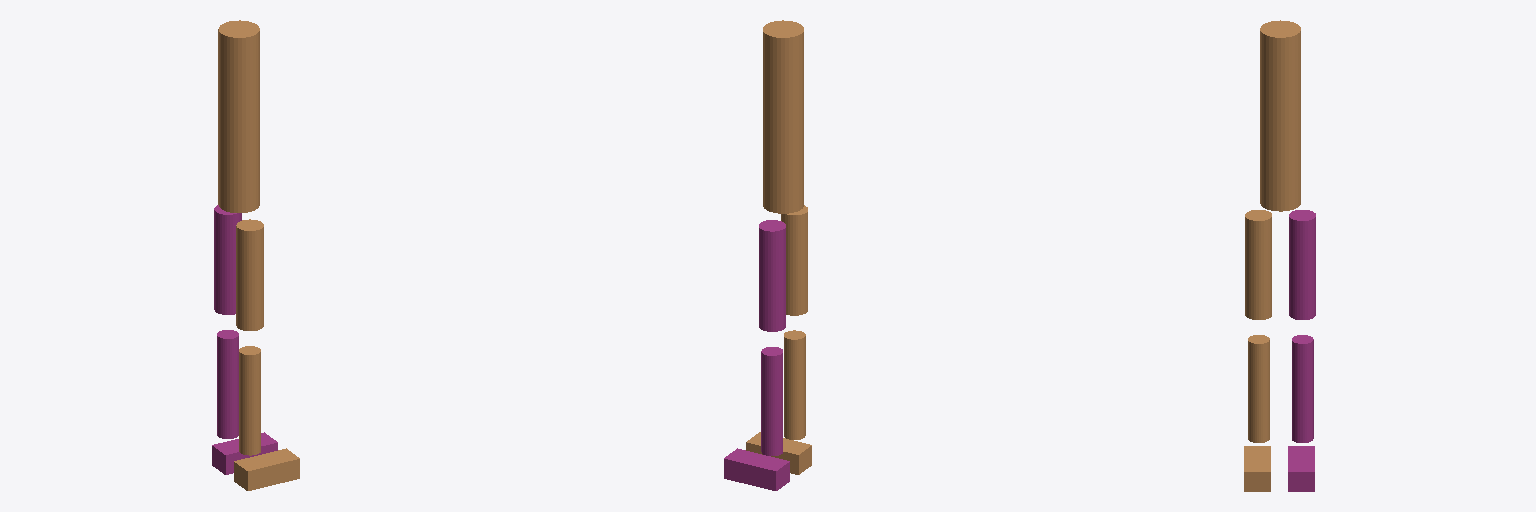
The robot description file, URDF, robot "walker3d_hip3d":
<?xml version="1.0" encoding="utf-8"?>
<!-- Created by [author] (https://github.com/lupinjia, [email redacted])-->
<robot name="walker3d_hip3d">
  <material name="yellow">
      <color rgba="0.8 0.6 0.4 1.0"/>
  </material>
  <material name="purple">
    <color rgba="0.7 0.3 0.6 1"/>
  </material>
  <link name="torso">
    <inertial>
      <origin
        xyz="0 0 0.35"
        rpy="0 0 0" />
      <mass
        value="53.5" />
      <inertia
        ixx="2.5"
        ixy="0.0"
        ixz="0.0"
        iyy="4.0"
        iyz="0.0"
        izz="1.5" />
    </inertial>
    <visual>
      <origin
        xyz="0 0 0.35"
        rpy="0 0 0" />
      <geometry>
        <cylinder radius="0.075" length="0.7"/>
      </geometry>
      <material name="yellow">
      </material>
    </visual>
    <collision>
      <origin
        xyz="0 0 0.35"
        rpy="0 0 0" />
      <geometry>
        <cylinder radius="0.075" length="0.7"/>
      </geometry>
    </collision>
  </link>
  <link name="right_hip_dummy1">
  </link>
  <joint 
    name="hip_joint_saggital_right"
    type="revolute">
    <parent link="torso"/>
    <child link="right_hip_dummy1"/>
    <origin
      xyz="0 -0.08 0"
      rpy="0 0 0" />
    <axis
      xyz="0 1 0" />
    <limit
      lower="-0.7854"
      upper="0.7854"
      effort="300"
      velocity="10" />
  </joint>
  <link name="right_hip_dummy2">
  </link>
  <joint 
    name="hip_joint_frontal_right"
    type="revolute">
    <parent link="right_hip_dummy1"/>
    <child link="right_hip_dummy2"/>
    <origin
      xyz="0 0 0"
      rpy="0 0 0" />
    <axis
      xyz="1 0 0" />
    <limit
      lower="-0.8727"
      upper="0.8727"
      effort="300"
      velocity="10" />
  </joint>
  <link name="right_thigh">
    <inertial>
      <origin
        xyz="0 0 -0.2"
        rpy="0 0 0" />
      <mass
        value="8.5" />
      <inertia
        ixx="0.15"
        ixy="0.0"
        ixz="0.0"
        iyy="0.15"
        iyz="0.0"
        izz="0.03" />
    </inertial>
    <visual>
      <origin
        xyz="0 0 -0.25"
        rpy="0 0 0" />
      <geometry>
        <cylinder radius="0.05" length="0.4"/>
      </geometry>
      <material name="yellow">
      </material>
    </visual>
    <collision>
      <origin
        xyz="0 0 -0.25"
        rpy="0 0 0" />
      <geometry>
        <cylinder radius="0.05" length="0.4"/>
      </geometry>
    </collision>
  </link>
  <joint 
    name="hip_joint_transversal_right"
    type="revolute">
    <parent link="right_hip_dummy2"/>
    <child link="right_thigh"/>
    <origin
      xyz="0 0 0"
      rpy="0 0 0" />
    <axis
      xyz="0 0 1" />
    <limit
      lower="-0.26"
      upper="0.26"
      effort="300"
      velocity="10" />
  </joint>
  <link name="right_shank">
    <inertial>
      <origin
        xyz="0 0 -0.2"
        rpy="0 0 0" />
      <mass
        value="3.5" />
      <inertia
        ixx="0.05"
        ixy="0.0"
        ixz="0.0"
        iyy="0.05"
        iyz="0.0"
        izz="0.003" />
    </inertial>
    <visual>
      <origin
        xyz="0 0 -0.25"
        rpy="0 0 0" />
      <geometry>
        <cylinder radius="0.04" length="0.4"/>
      </geometry>
      <material name="yellow">
      </material>
    </visual>
    <collision>
      <origin
        xyz="0 0 -0.25"
        rpy="0 0 0" />
      <geometry>
        <cylinder radius="0.04" length="0.4"/>
      </geometry>
    </collision>
  </link>
  <joint 
    name="knee_joint_right"
    type="revolute">
    <parent link="right_thigh"/>
    <child link="right_shank"/>
    <origin
      xyz="0 0 -0.5"
      rpy="0 0 0" />
    <axis
      xyz="0 1 0" />
    <limit
      lower="0"
      upper="2.6180"
      effort="300"
      velocity="10" />
  </joint>
  <link name="right_foot">
    <inertial>
      <origin
        xyz="0.06 0 -0.07"
        rpy="0 0 0" />
      <mass
        value="1.5" />
      <inertia
        ixx="0.003"
        ixy="0.0"
        ixz="0.0"
        iyy="0.006"
        iyz="0.0"
        izz="0.005" />
    </inertial>
    <visual>
      <origin
        xyz="0.0675 -0.005 -0.04"
        rpy="0 0 0" />
      <geometry>
        <box size="0.22 0.1 0.08"/>
      </geometry>
      <material name="yellow">
      </material>
    </visual>
    <collision>
      <origin
        xyz="0.0675 -0.005 -0.04"
        rpy="0 0 0" />
      <geometry>
        <box size="0.22 0.1 0.08"/>
      </geometry>
    </collision>
  </link>
  <joint 
    name="ankle_joint_right"
    type="revolute">
    <parent link="right_shank"/>
    <child link="right_foot"/>
    <origin
      xyz="0 0 -0.5"
      rpy="0 0 0" />
    <axis
      xyz="0 1 0" />
    <limit
      lower="-0.5"
      upper="0.6981"
      effort="300"
      velocity="10" />
  </joint>
  <!-- Left leg -->
  <link name="left_hip_dummy1">
  </link>
  <joint 
    name="hip_joint_saggital_left"
    type="revolute">
    <parent link="torso"/>
    <child link="left_hip_dummy1"/>
    <origin
      xyz="0 0.08 0"
      rpy="0 0 0" />
    <axis
      xyz="0 1 0" />
    <limit
      lower="-0.7854"
      upper="0.7854"
      effort="300"
      velocity="10" />
  </joint>
  <link name="left_hip_dummy2">
  </link>
  <joint 
    name="hip_joint_frontal_left"
    type="revolute">
    <parent link="left_hip_dummy1"/>
    <child link="left_hip_dummy2"/>
    <origin
      xyz="0 0 0"
      rpy="0 0 0" />
    <axis
      xyz="1 0 0" />
    <limit
      lower="-0.8727"
      upper="0.8727"
      effort="300"
      velocity="10" />
  </joint>
  <link name="left_thigh">
    <inertial>
      <origin
        xyz="0 0 -0.2"
        rpy="0 0 0" />
      <mass
        value="8.5" />
      <inertia
        ixx="0.15"
        ixy="0.0"
        ixz="0.0"
        iyy="0.15"
        iyz="0.0"
        izz="0.03" />
    </inertial>
    <visual>
      <origin
        xyz="0 0 -0.25"
        rpy="0 0 0" />
      <geometry>
        <cylinder radius="0.05" length="0.4"/>
      </geometry>
      <material name="purple">
      </material>
    </visual>
    <collision>
      <origin
        xyz="0 0 -0.25"
        rpy="0 0 0" />
      <geometry>
        <cylinder radius="0.05" length="0.4"/>
      </geometry>
    </collision>
  </link>
  <joint 
    name="hip_joint_transversal_left"
    type="revolute">
    <parent link="left_hip_dummy2"/>
    <child link="left_thigh"/>
    <origin
      xyz="0 0 0"
      rpy="0 0 0" />
    <axis
      xyz="0 0 1" />
    <limit
      lower="-0.26"
      upper="0.26"
      effort="300"
      velocity="10" />
  </joint>
  <link name="left_shank">
    <inertial>
      <origin
        xyz="0 0 -0.2"
        rpy="0 0 0" />
      <mass
        value="3.5" />
      <inertia
        ixx="0.05"
        ixy="0.0"
        ixz="0.0"
        iyy="0.05"
        iyz="0.0"
        izz="0.003" />
    </inertial>
    <visual>
      <origin
        xyz="0 0 -0.25"
        rpy="0 0 0" />
      <geometry>
        <cylinder radius="0.04" length="0.4"/>
      </geometry>
      <material name="purple">
      </material>
    </visual>
    <collision>
      <origin
        xyz="0 0 -0.25"
        rpy="0 0 0" />
      <geometry>
        <cylinder radius="0.04" length="0.4"/>
      </geometry>
    </collision>
  </link>
  <joint 
    name="knee_joint_left"
    type="revolute">
    <parent link="left_thigh"/>
    <child link="left_shank"/>
    <origin
      xyz="0 0 -0.5"
      rpy="0 0 0" />
    <axis
      xyz="0 1 0" />
    <limit
      lower="0"
      upper="2.6180"
      effort="300"
      velocity="10" />
  </joint>
  <link name="left_foot">
    <inertial>
      <origin
        xyz="0.06 0 -0.07"
        rpy="0 0 0" />
      <mass
        value="1.5" />
      <inertia
        ixx="0.003"
        ixy="0.0"
        ixz="0.0"
        iyy="0.006"
        iyz="0.0"
        izz="0.005" />
    </inertial>
    <visual>
      <origin
        xyz="0.0675 -0.005 -0.04"
        rpy="0 0 0" />
      <geometry>
        <box size="0.22 0.1 0.08"/>
      </geometry>
      <material name="purple">
      </material>
    </visual>
    <collision>
      <origin
        xyz="0.0675 -0.005 -0.04"
        rpy="0 0 0" />
      <geometry>
        <box size="0.22 0.1 0.08"/>
      </geometry>
    </collision>
  </link>
  <joint 
    name="ankle_joint_left"
    type="revolute">
    <parent link="left_shank"/>
    <child link="left_foot"/>
    <origin
      xyz="0 0 -0.5"
      rpy="0 0 0" />
    <axis
      xyz="0 1 0" />
    <limit
      lower="-0.5"
      upper="0.6981"
      effort="300"
      velocity="10" />
  </joint>
</robot>

--- Render facts (derived) ---
Views: 3 orthographic renders of the robot side by side, from view 1: azimuth 30°, elevation 25°; view 2: azimuth 150°, elevation 25°; view 3: azimuth 270°, elevation 25°.
Model walker3d_hip3d with 11 links and 10 joints (10 revolute), rooted at torso, posed every joint at zero.
Visible links, largest first — view 1: torso, right_thigh, right_shank, left_shank, left_thigh, right_foot, left_foot; view 2: torso, left_thigh, right_shank, left_shank, right_thigh, left_foot, right_foot; view 3: torso, right_thigh, left_thigh, right_shank, left_shank, right_foot, left_foot.
Link boxes in pixels (x1,y1,x2,y2): torso: (218, 20, 259, 212); right_thigh: (236, 219, 263, 330); right_shank: (239, 346, 260, 455); left_shank: (217, 330, 238, 438); left_thigh: (214, 205, 241, 314); right_foot: (234, 448, 299, 490); left_foot: (212, 432, 277, 474); torso: (763, 20, 803, 213); left_thigh: (759, 220, 785, 331); right_shank: (784, 330, 805, 439); left_shank: (761, 347, 782, 455); right_thigh: (781, 205, 807, 315); left_foot: (724, 448, 789, 490); right_foot: (746, 432, 811, 474); torso: (1260, 20, 1300, 211); right_thigh: (1245, 210, 1271, 319); left_thigh: (1289, 210, 1315, 319); right_shank: (1248, 335, 1269, 442); left_shank: (1292, 335, 1313, 442); right_foot: (1244, 446, 1270, 491); left_foot: (1288, 446, 1314, 491).
Bounding box of the posed robot: 0.2525 × 0.265 × 1.78 m (x, y, z).
Geometry: primitives only (box / cylinder / sphere), no mesh files.
